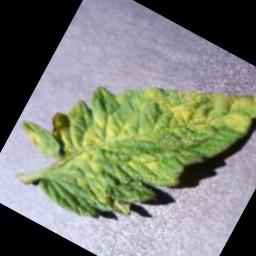Leaf_Mold: (1, 1, 256, 256)
